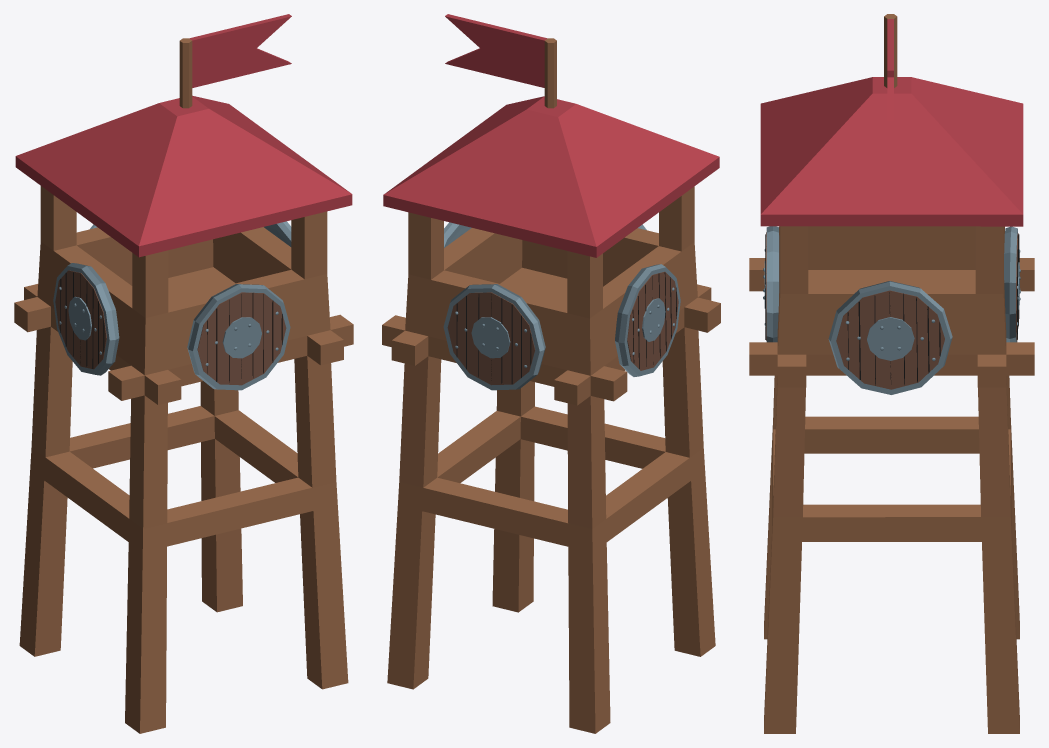
File: tower_lvl2.fbx
3 views of the same model, side by side, from view 1: azimuth 30°, elevation 25°; view 2: azimuth 150°, elevation 25°; view 3: azimuth 270°, elevation 25° (orthographic). The views are drawn at different scales.
Visible parts, largest first — view 1: Cube.022, Node, Node.003; view 2: Cube.022, Node.001, Node.003; view 3: Cube.022, Node.002, Node.001, Node.
Part boxes in pixels (box(x1,y1,x2,y2)): Cube.022: box(14, 14, 353, 733); Node: box(187, 284, 290, 390); Node.003: box(53, 263, 119, 375); Cube.022: box(382, 14, 720, 733); Node.001: box(443, 284, 545, 390); Node.003: box(615, 264, 680, 376); Cube.022: box(749, 14, 1034, 733); Node.002: box(828, 281, 952, 394); Node.001: box(1004, 226, 1020, 342); Node: box(763, 226, 779, 342).
Size of the model in its own units: 149 by 384 by 149.
